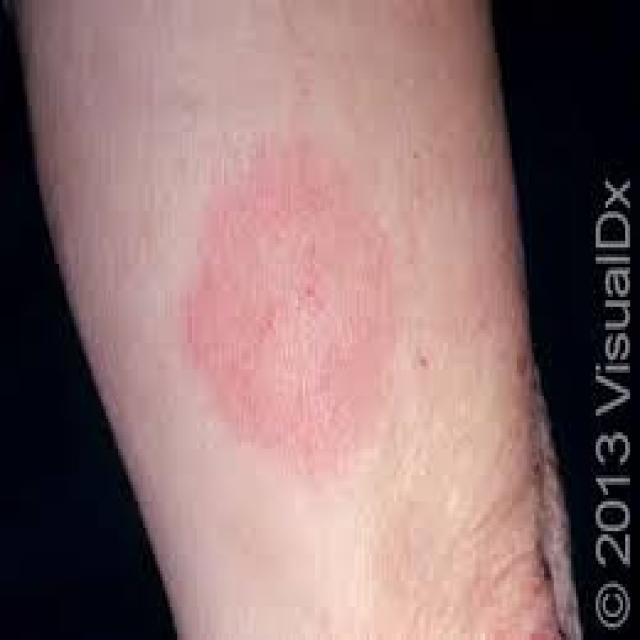kene: (191, 202, 395, 454)
